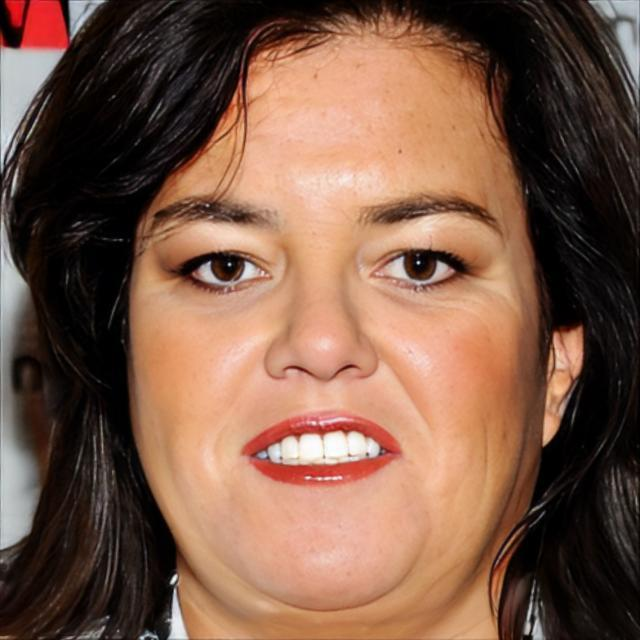disgust: (114, 26, 550, 614)
